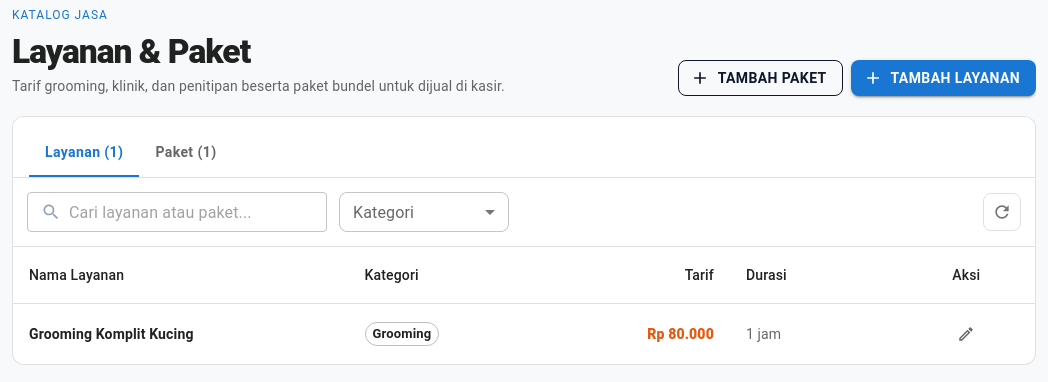
it: ServicesPage › switches to packages tab and shows bundle contents
Expected: the text "Grooming Komplit Kucing" is shown, [29,326,194,342]
What coordinates should you click on to do the following:
click the tab "Paket (1)"
I would click on:
 (186, 153)
Its box is [139,129,232,177].
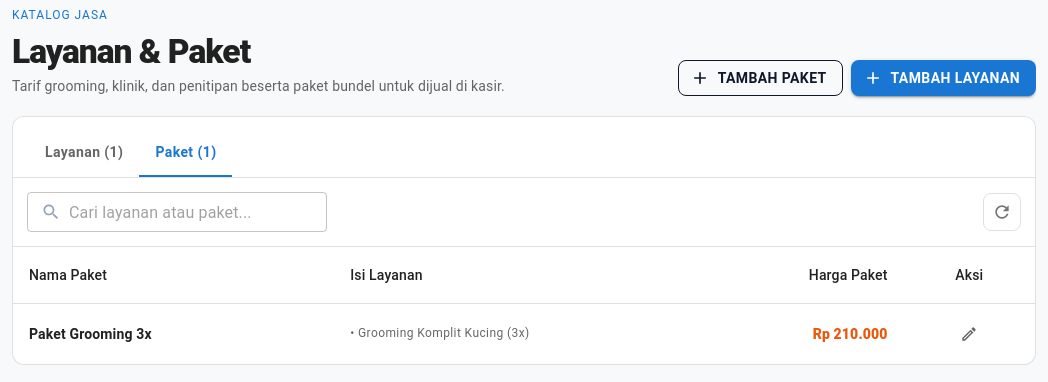
Expected: the text "Paket Grooming 3x" is shown, [29,326,152,342]
Expected: the text "• Grooming Komplit Kucing (3x)" is shown, [350,326,530,340]
